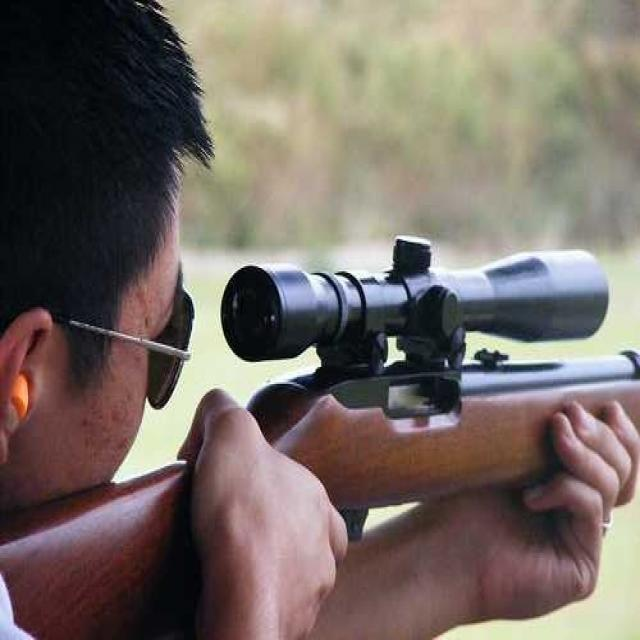weapon: (0, 190, 630, 640)
